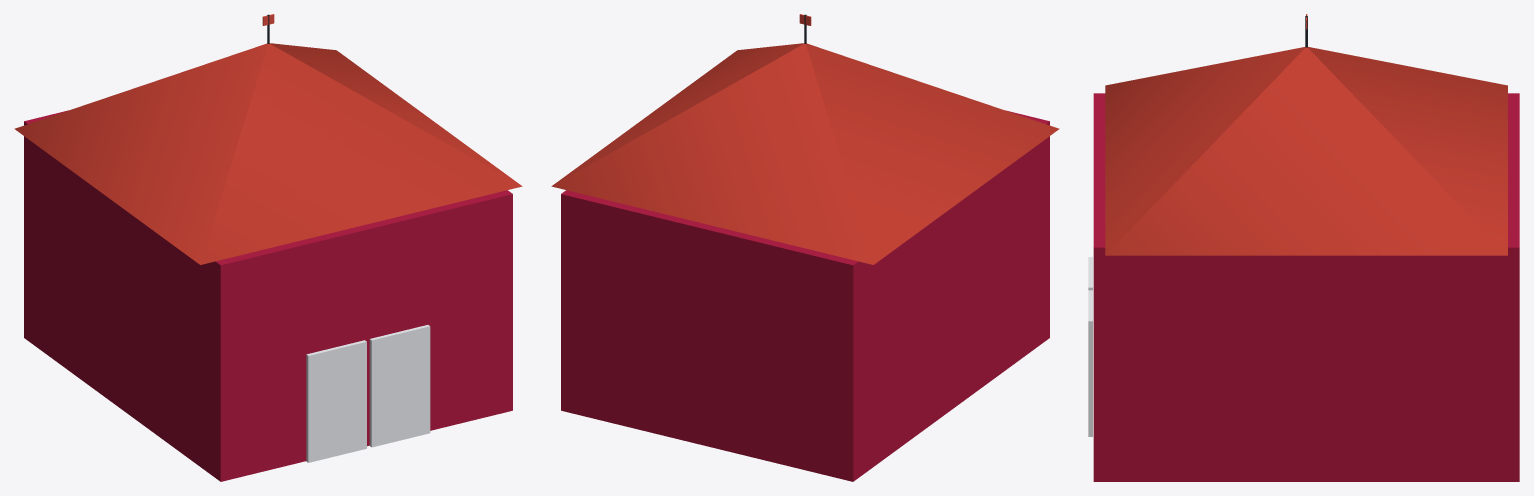
File: barn.glb
The picture shows the model from 3 angles, left to right: view 1: azimuth 30°, elevation 25°; view 2: azimuth 150°, elevation 25°; view 3: azimuth 270°, elevation 25°; orthographic projection. The views are drawn at different scales.
Size of the model in its own units: 13.24 by 14.1 by 14.18.
